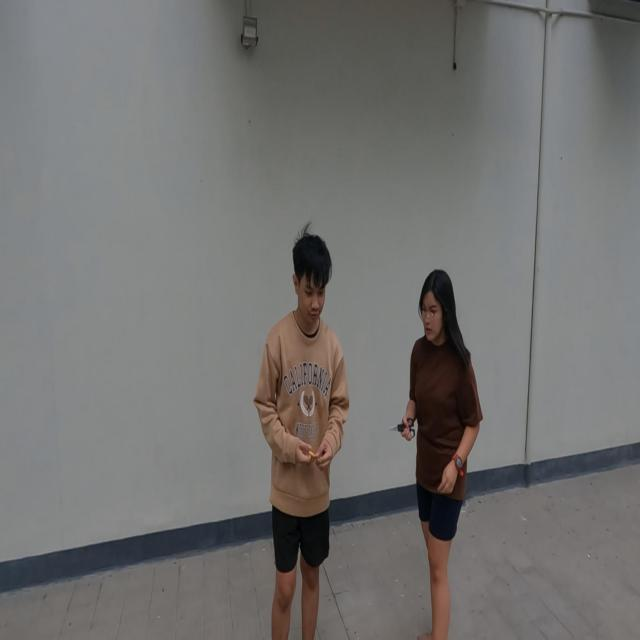scissor: (389, 416, 416, 441)
